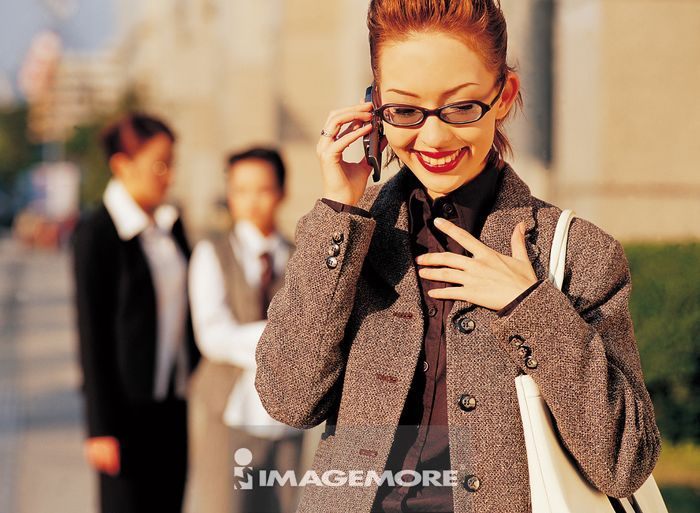phone: (358, 83, 383, 181)
talk: (318, 74, 487, 205)
